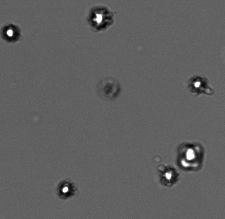Dead Cell: (98, 76, 121, 100)
Living Cell: (177, 140, 205, 172), (87, 5, 114, 31), (156, 163, 180, 186), (188, 73, 210, 95), (55, 178, 78, 199), (1, 23, 21, 43)
